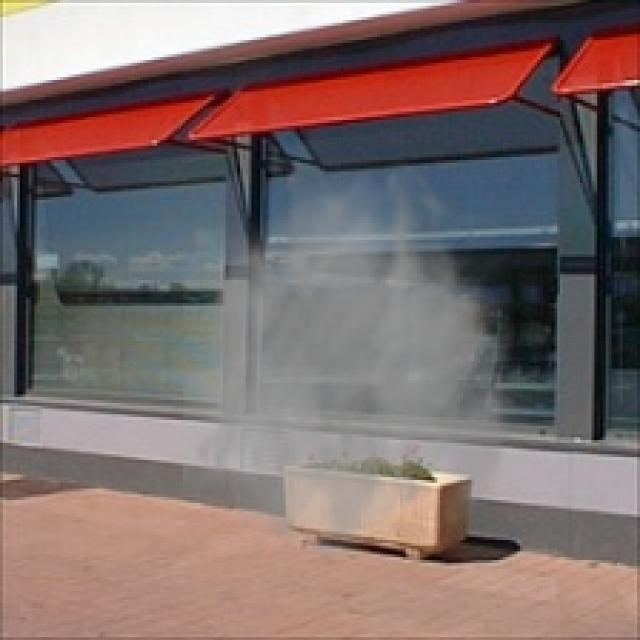smoke: (183, 154, 543, 572)
